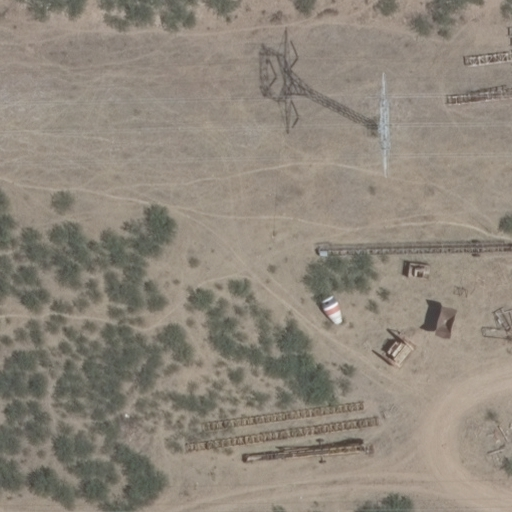TT: (373, 73, 403, 176)
